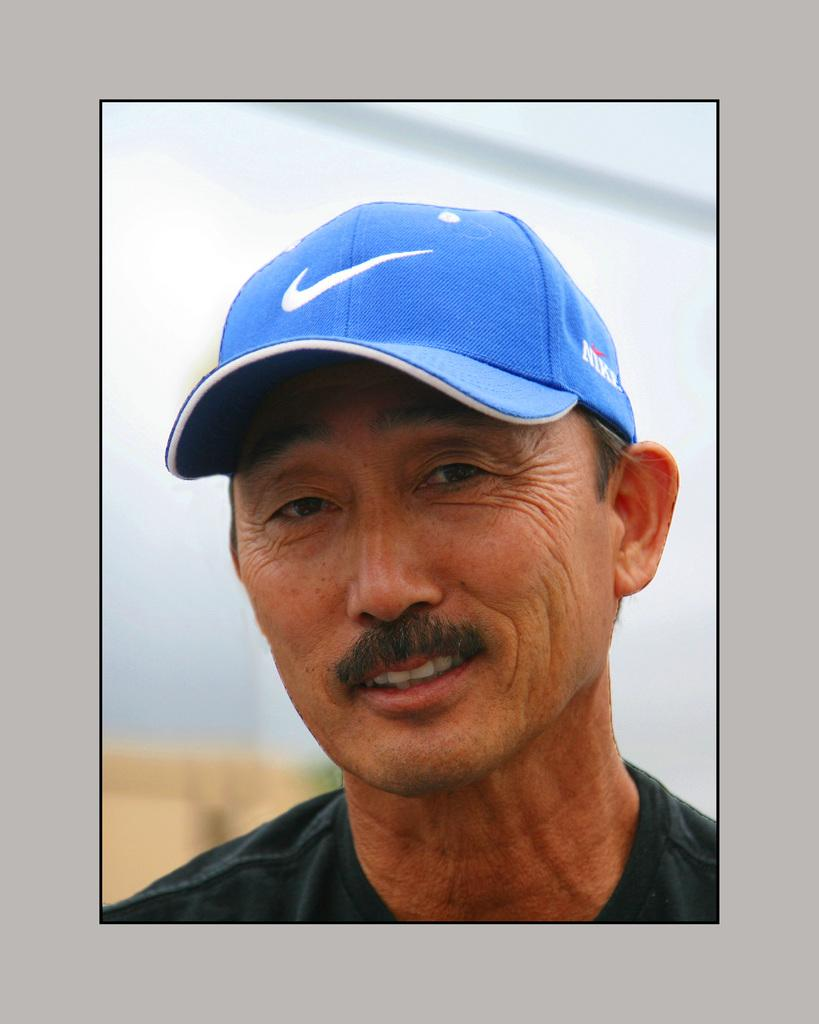Hat: (160, 196, 636, 478)
